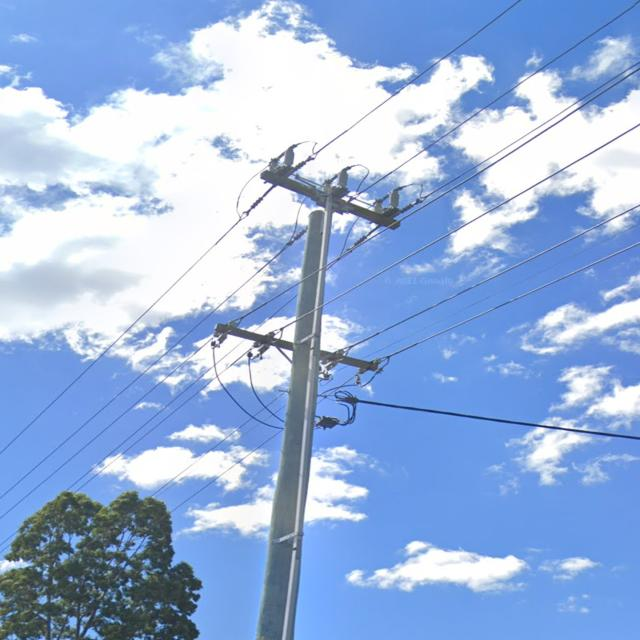HV-transmission: (237, 145, 422, 257)
crossarm: (260, 167, 398, 232), (215, 324, 378, 370)
timber-pole: (254, 211, 330, 632)
